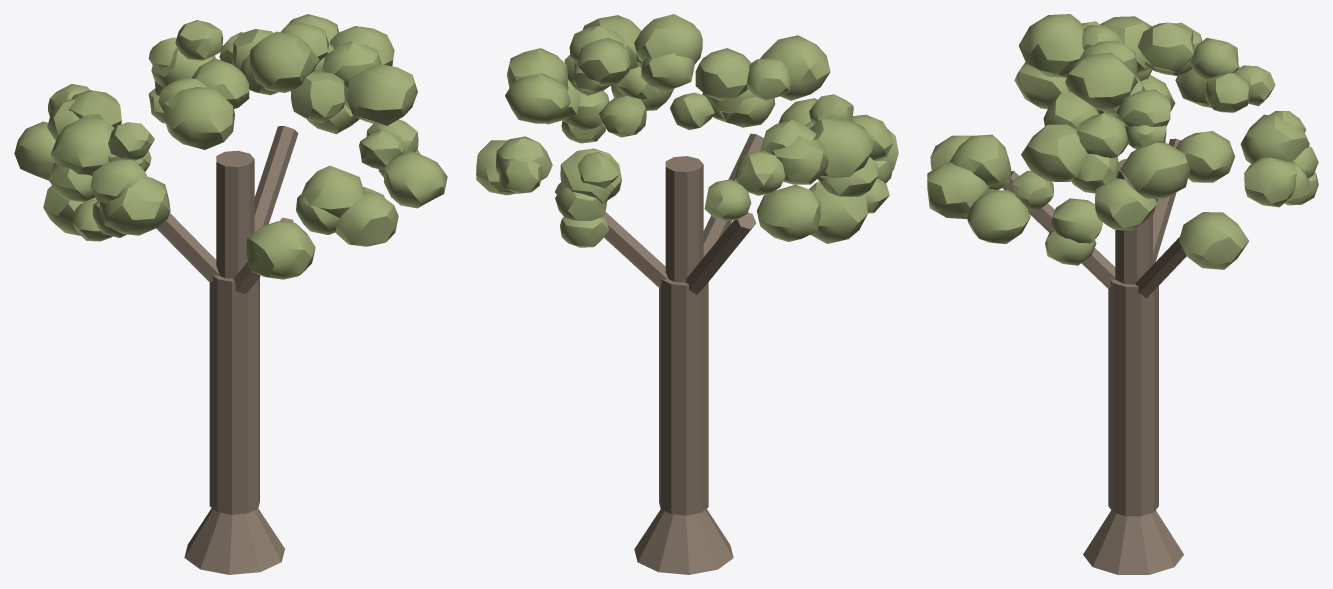
The model's file is tree_broadleaf.glb.
3 renders of one model, left to right at view 1: azimuth 30°, elevation 25°; view 2: azimuth 150°, elevation 25°; view 3: azimuth 270°, elevation 25°, orthographic.
Visible parts, largest first — view 1: tree_broadleaf; view 2: tree_broadleaf; view 3: tree_broadleaf.
Part boxes in pixels (x1,y1,x2,y2): tree_broadleaf: [14, 14, 447, 574]; tree_broadleaf: [476, 14, 898, 574]; tree_broadleaf: [927, 14, 1318, 574].
Size of the model in its own units: 4.16 by 5.8 by 4.02.
